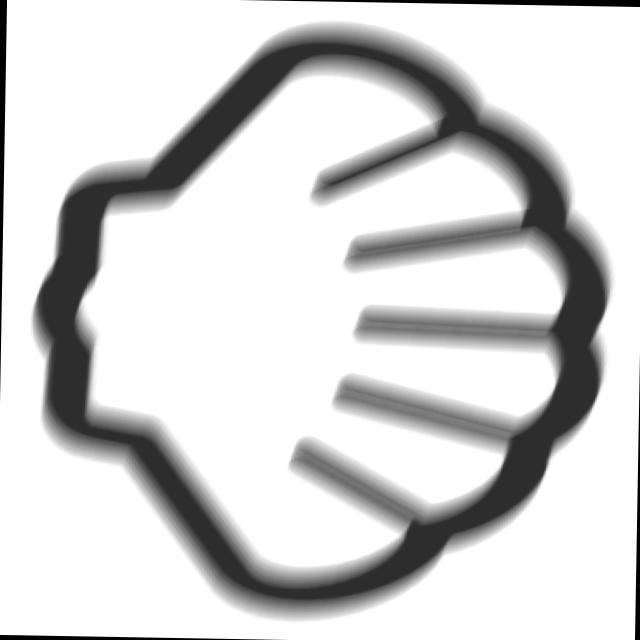shell: (15, 2, 632, 635)
